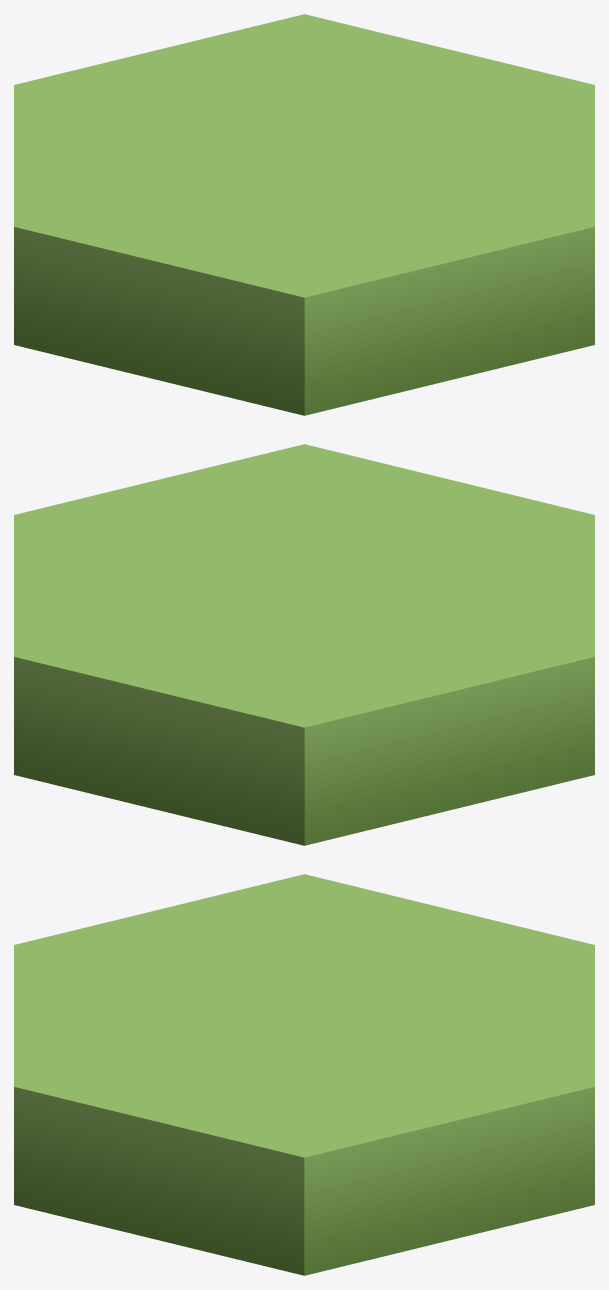
Rendered from lowpoly_spot_dark_green.fbx.
3 views of the same model, one above another, from view 1: azimuth 30°, elevation 25°; view 2: azimuth 150°, elevation 25°; view 3: azimuth 270°, elevation 25° (orthographic).
Parts seen in each view (by area): view 1: lowpoly_spot_dark_green; view 2: lowpoly_spot_dark_green; view 3: lowpoly_spot_dark_green.
Boxes of the visible parts, x1,y1,x2,y2 form: lowpoly_spot_dark_green: [14, 14, 594, 415]; lowpoly_spot_dark_green: [14, 444, 594, 845]; lowpoly_spot_dark_green: [14, 874, 594, 1275].
Size of the model in its own units: 366 by 71.12 by 317.
1 material, 1 textured.
